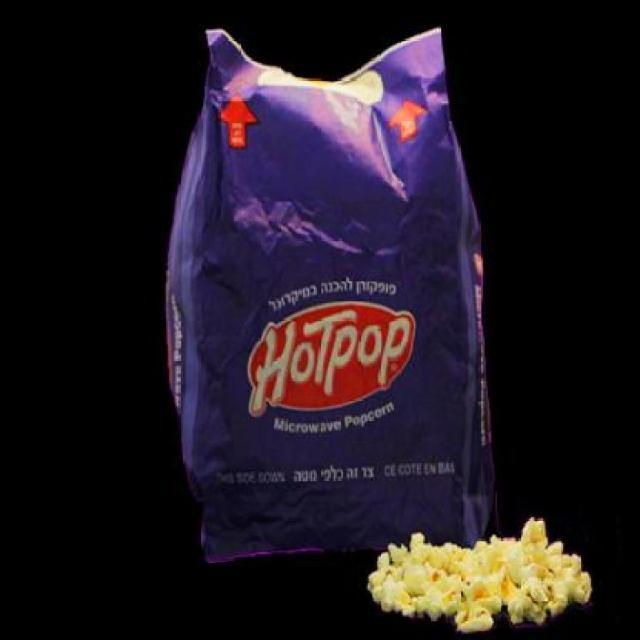Chips: (174, 16, 514, 598)
Popcorn: (362, 514, 602, 638)
